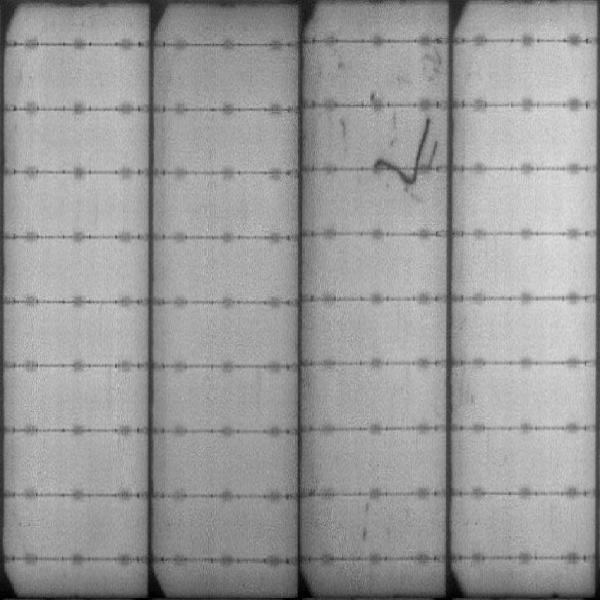scratch: (371, 119, 438, 186), (415, 46, 440, 98)
